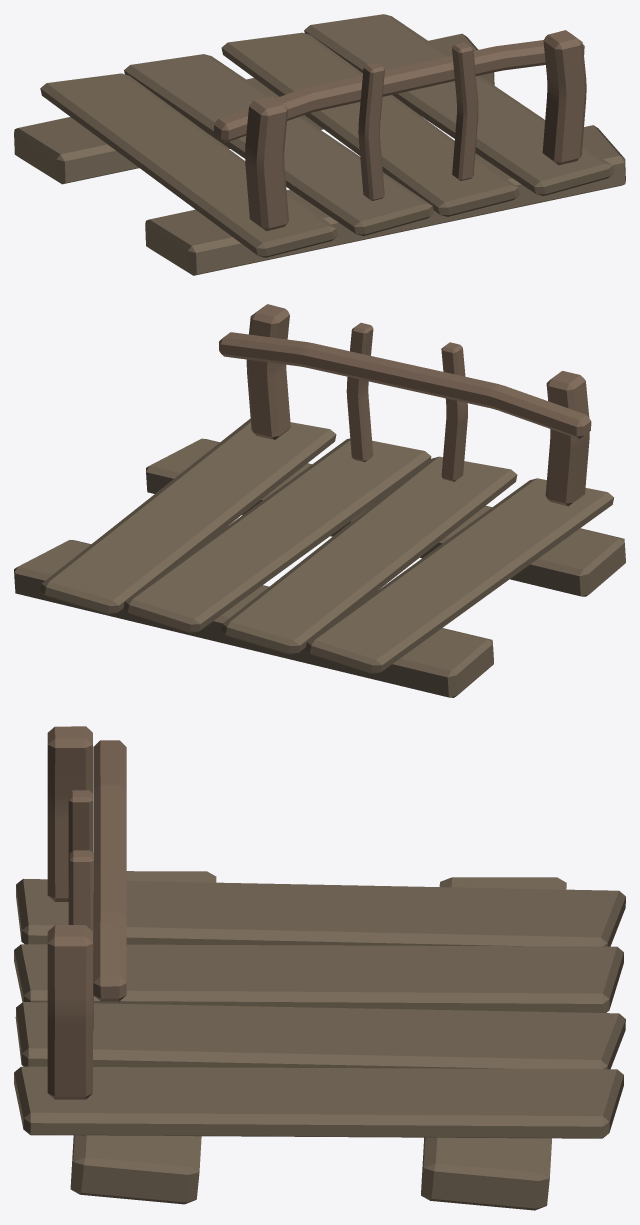
The model's file is KleinePlatform_WeenieTree.fbx.
3 views of the same model, one above another, from view 1: azimuth 30°, elevation 25°; view 2: azimuth 150°, elevation 25°; view 3: azimuth 270°, elevation 25° (orthographic). The views are drawn at different scales.
Visible parts, largest first — view 1: pasted__polySurface964; view 2: pasted__polySurface964; view 3: pasted__polySurface964.
Part boxes in pixels (box(x1,y1,x2,y2)): pasted__polySurface964: box(14, 14, 625, 275); pasted__polySurface964: box(14, 304, 625, 697); pasted__polySurface964: box(14, 726, 625, 1210).
Bounding box in the file's own units: 209 × 186 × 83.15.
